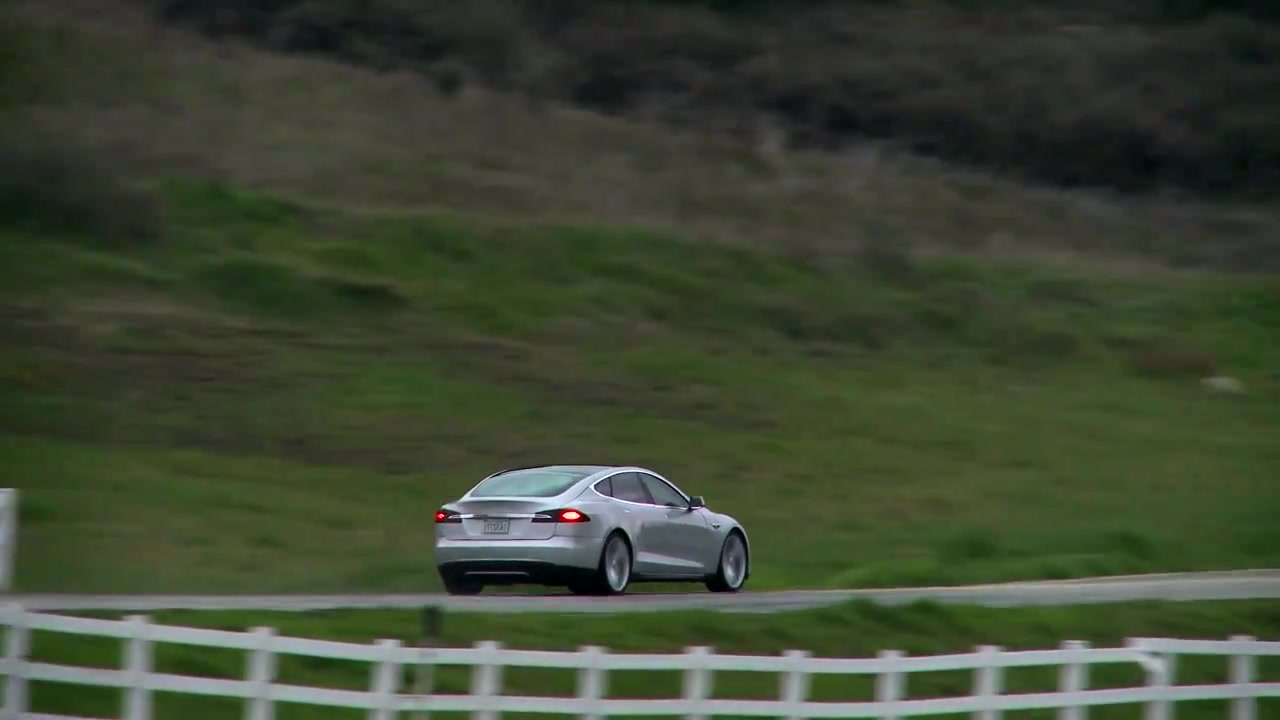car: (431, 462, 756, 600)
